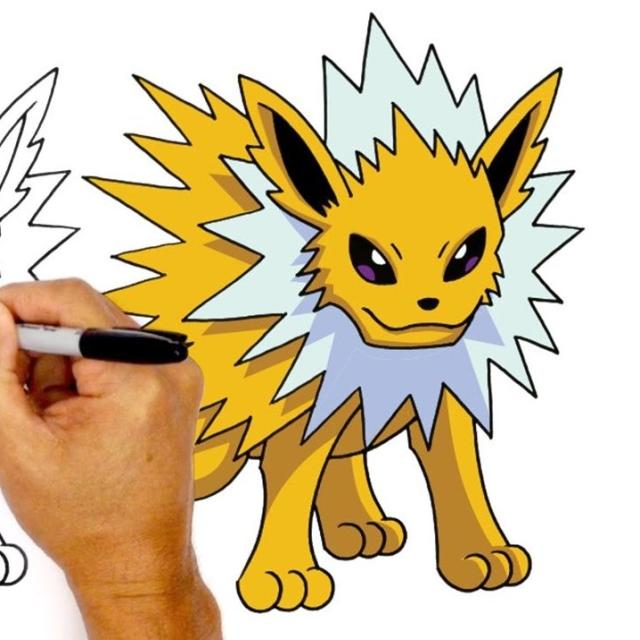Jolteon: (129, 29, 584, 606)
